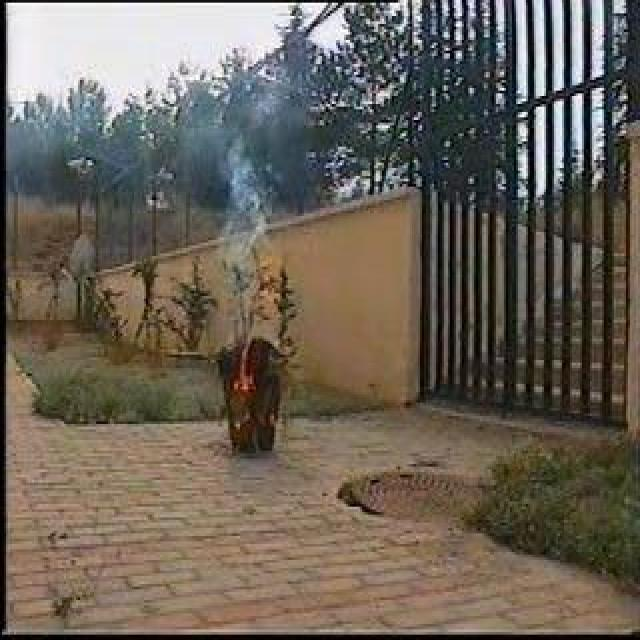fire: (226, 326, 258, 414)
smoke: (224, 81, 286, 252)
